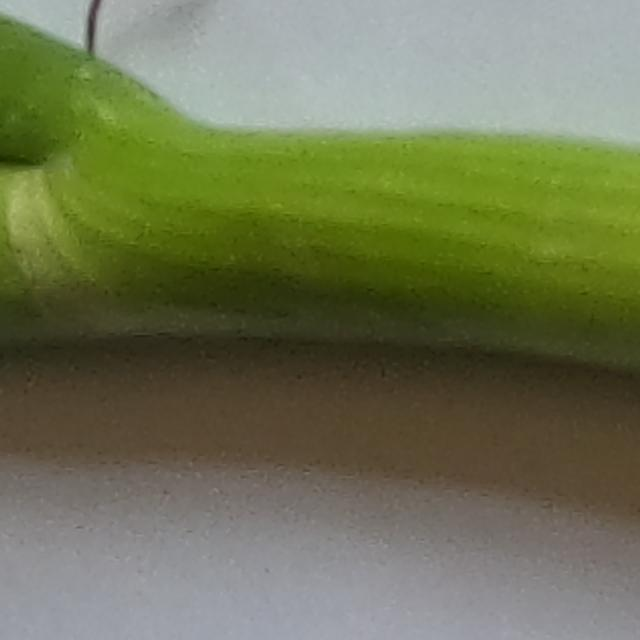green_onion: (0, 14, 640, 393)
